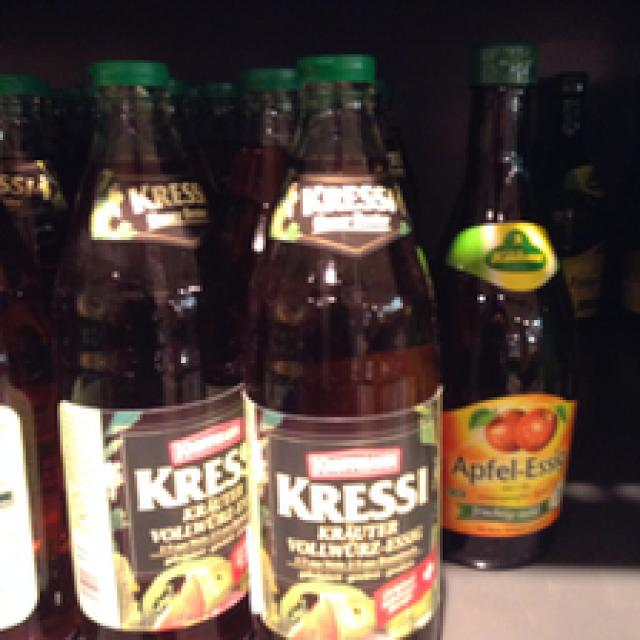groceries: (43, 60, 251, 634), (248, 54, 446, 637), (443, 37, 574, 572)
